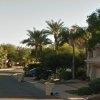Tree: (22, 15, 93, 62)
